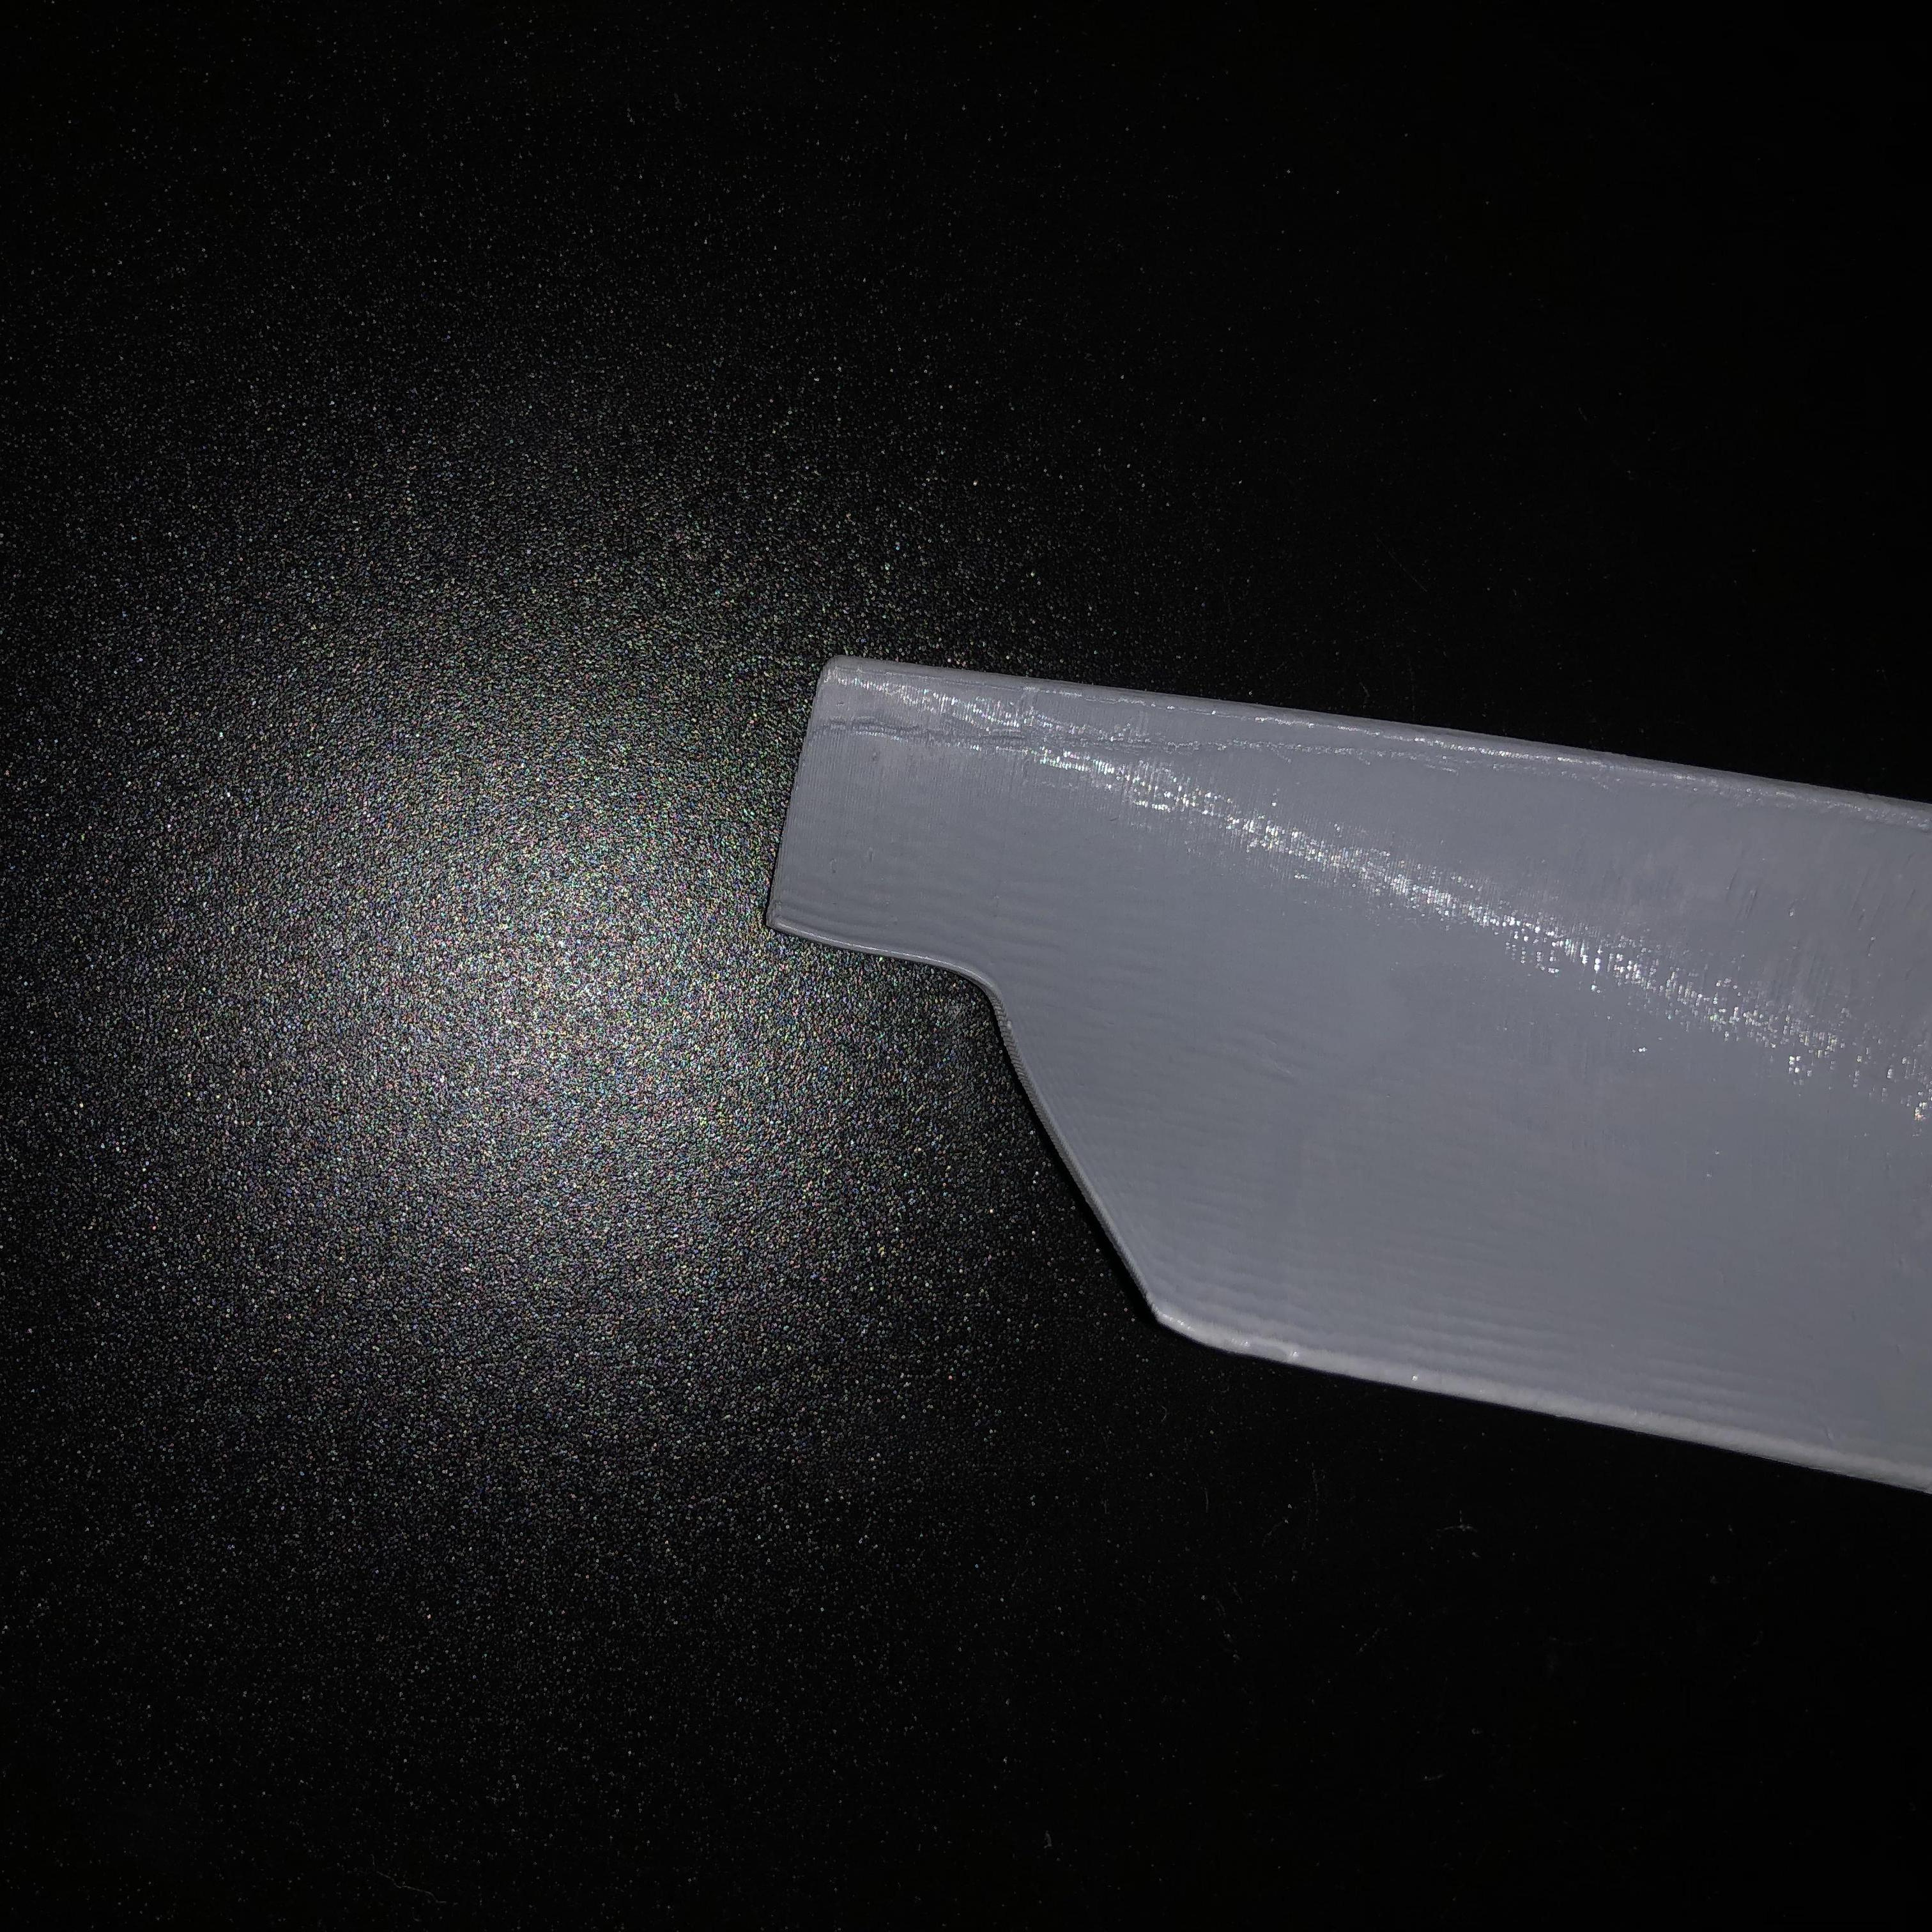fracture: (763, 908, 1178, 1338)
